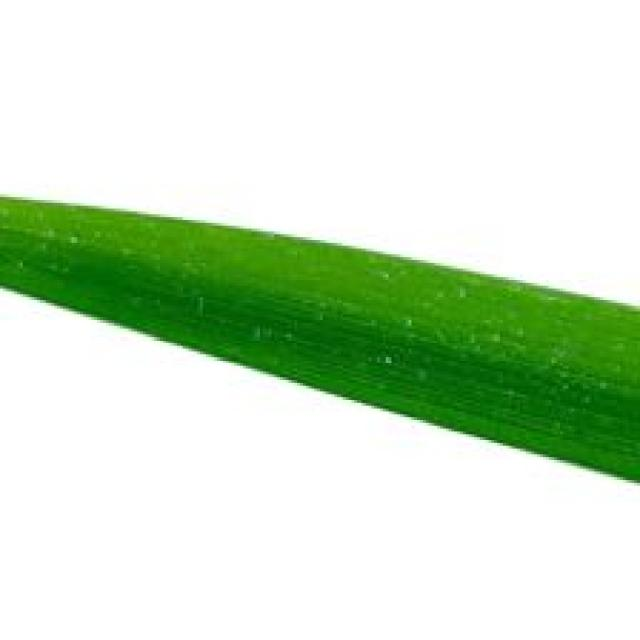Rice___Healthy_Rice_Plant: (0, 196, 637, 488)
